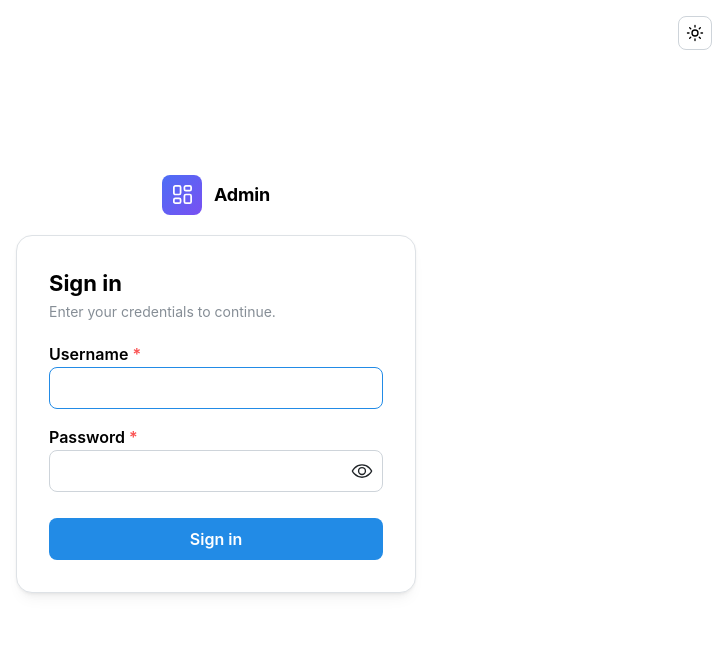
Scenario: the sign-in failure path › shows the server's refusal instead of swallowing it
Type "root" into the field labelled "Username *". click: [216, 388]
box: [49,367,383,409]
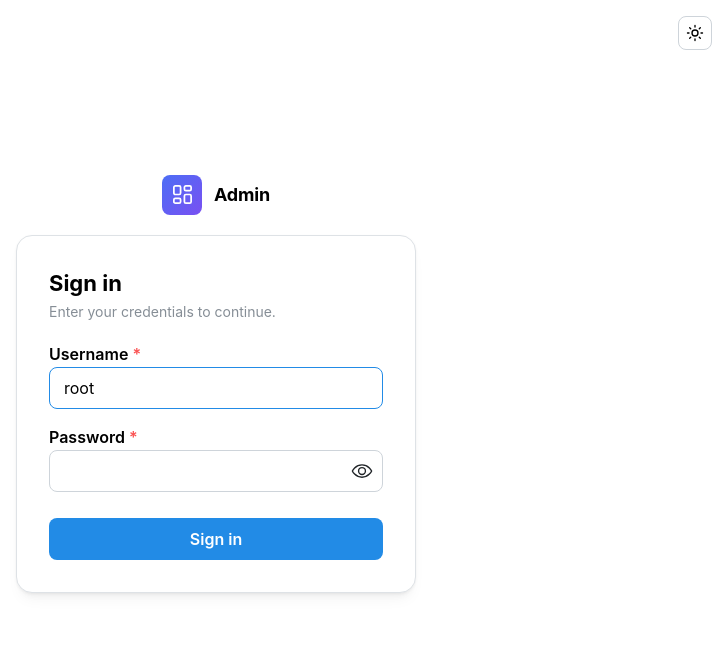
Type "hunter2" into the password field labelled "Password *". click: [216, 471]
box: [50,451,382,491]
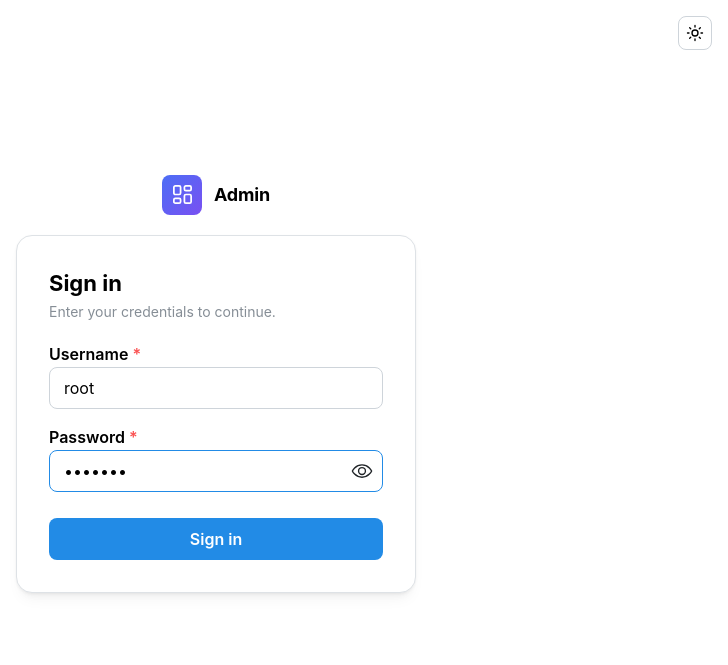
Click the button "Sign in". click: [216, 539]
box: [49,518,383,560]
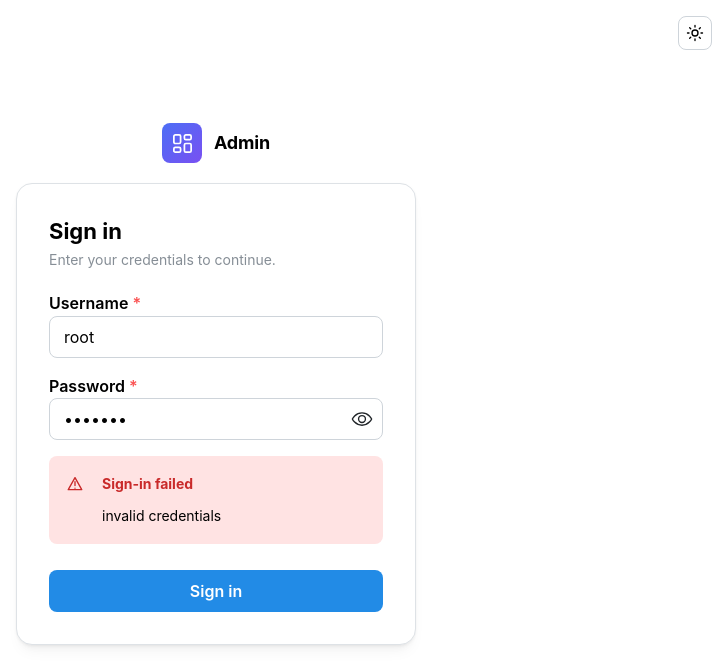
Now the text "invalid credentials" is shown, box [102,507,221,524]
Now the text "Sign-in failed" is shown, box [102,473,193,495]
